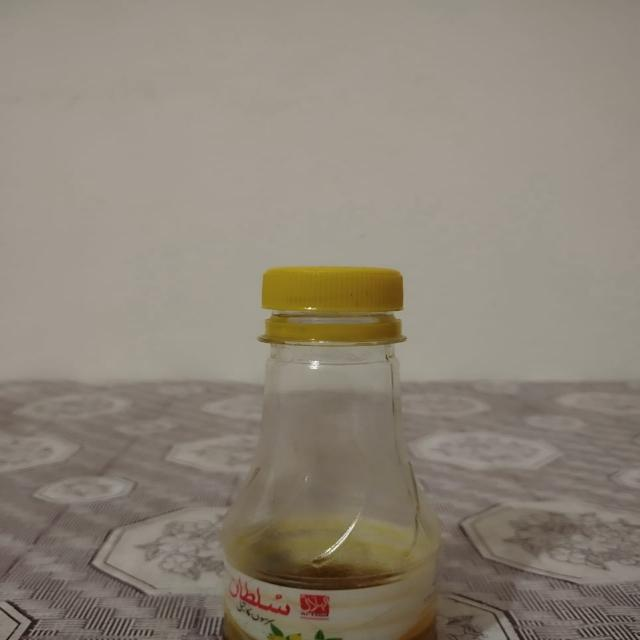bottle: (209, 245, 453, 640)
cap: (250, 260, 411, 354)
label: (218, 566, 442, 640)
